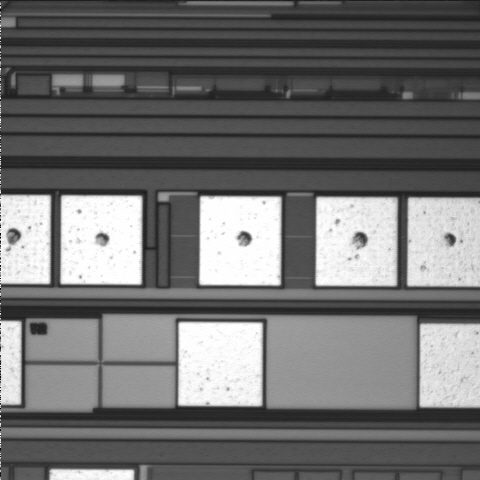pad: (199, 196, 281, 285), (61, 195, 142, 285), (316, 197, 397, 286), (178, 322, 263, 406)
